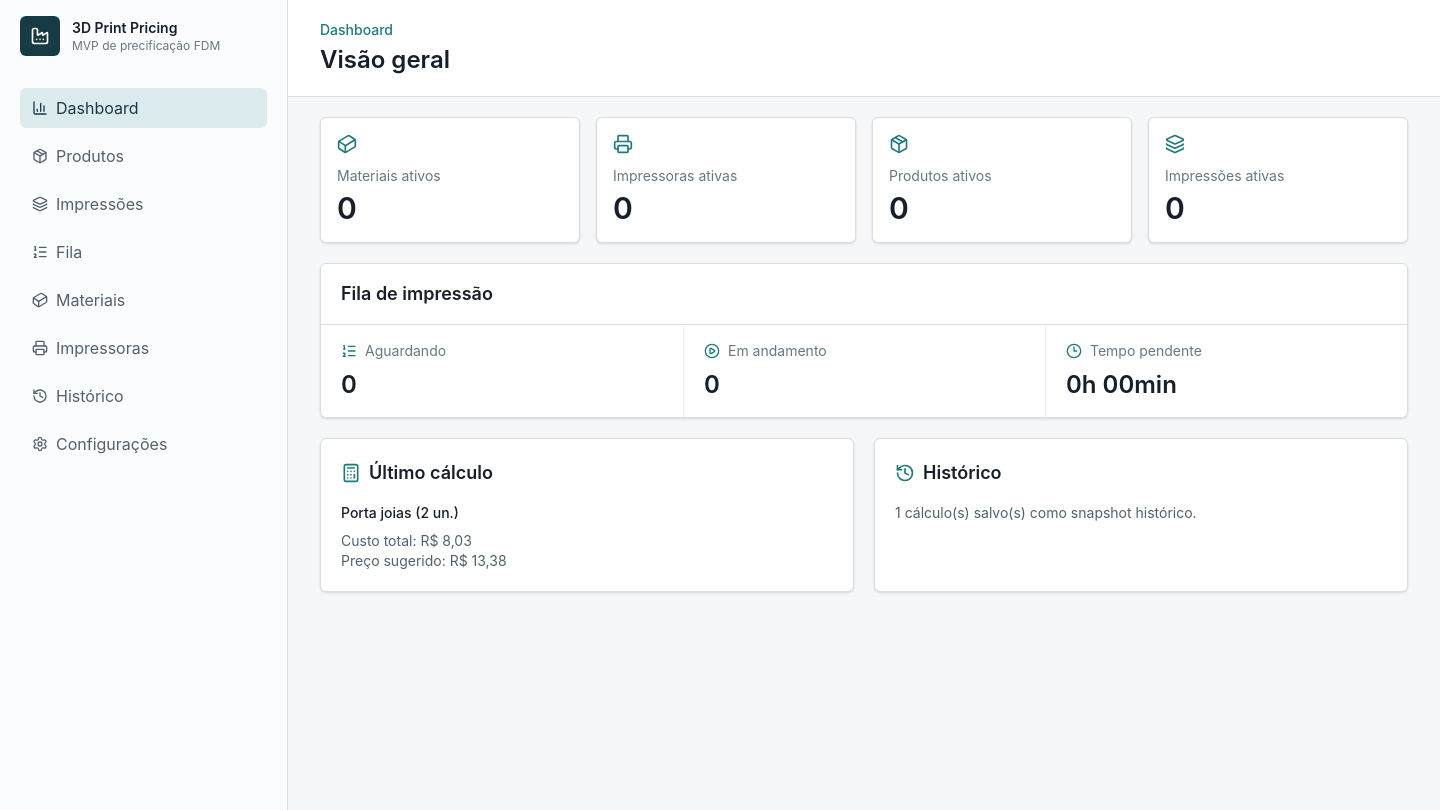
App › shows the complete snapshot of a saved calculation
Click the button "Histórico": [144, 396] box [20,376,267,416]
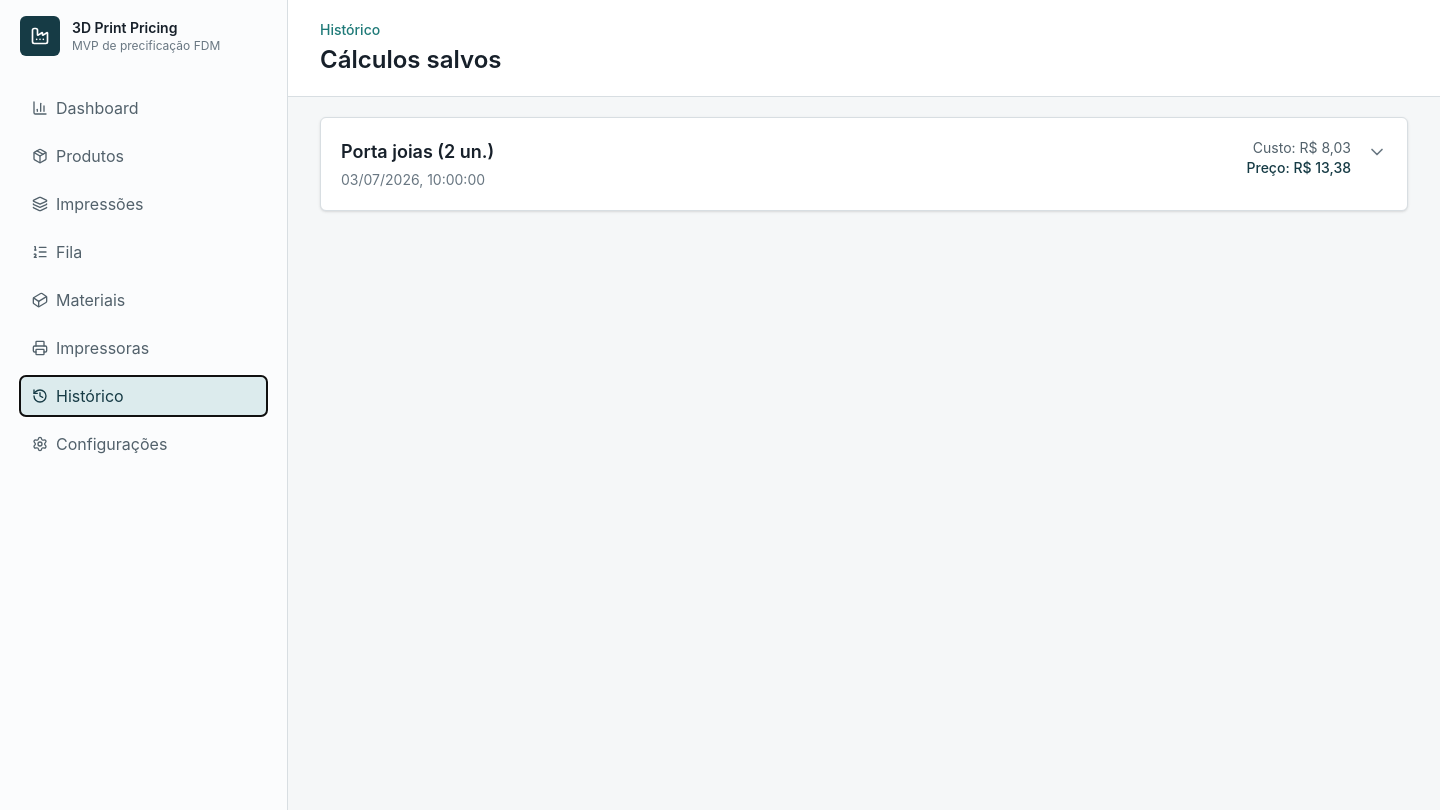
Click the heading "Porta joias (2 un.)": [418, 152] box [341,138,494,166]
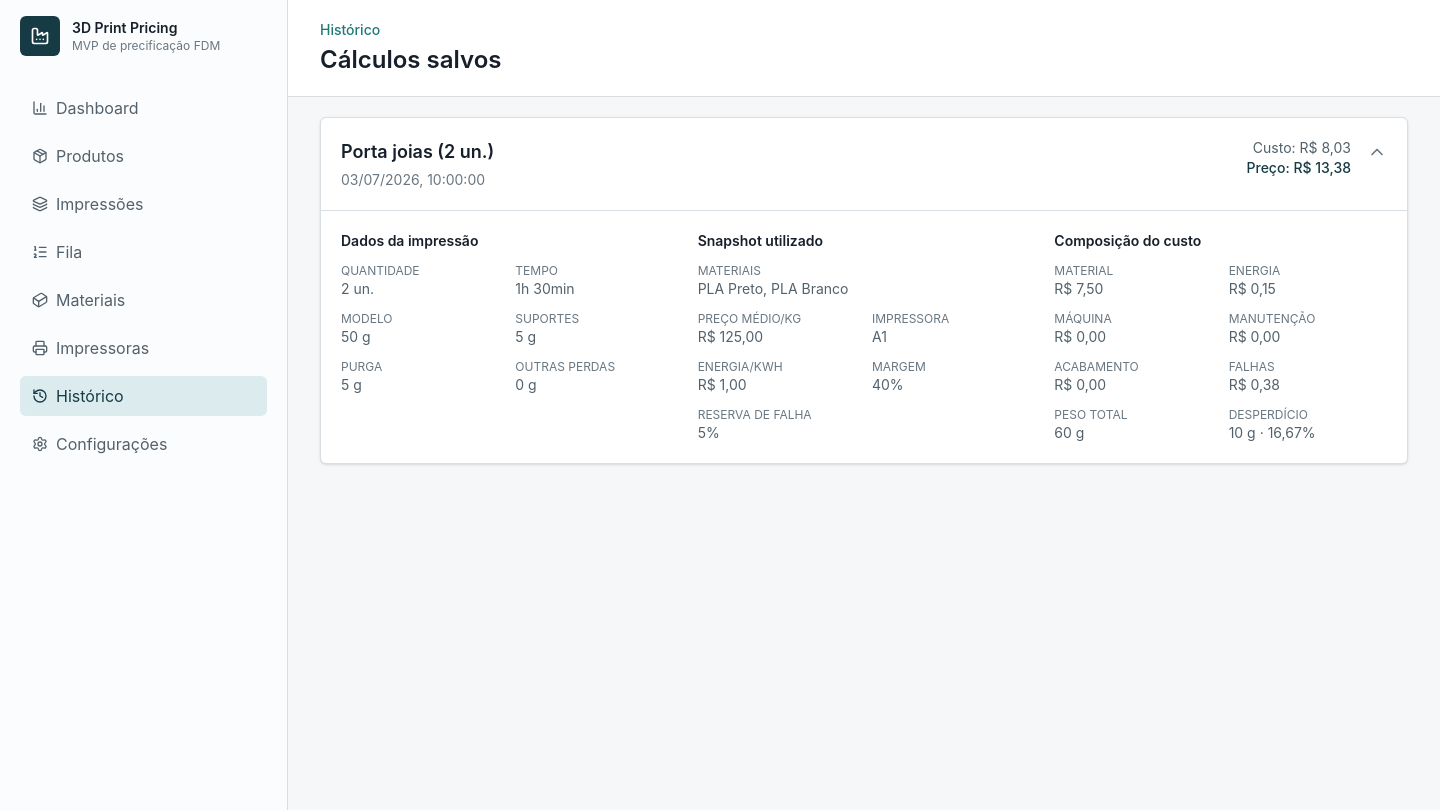
Expected: the heading "Dados da impressão" is shown, [341,232,478,249]
Expected: the heading "Snapshot utilizado" is shown, [698,232,823,249]
Expected: the text "PLA Preto, PLA Branco" is shown, [698,280,848,297]
